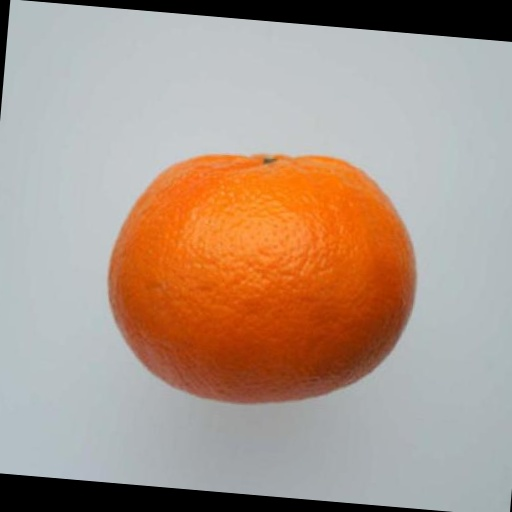fruit: (108, 155, 415, 402)
